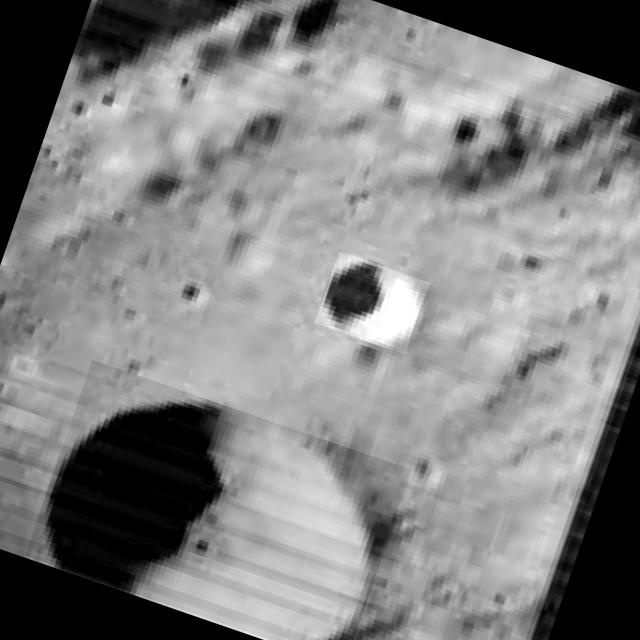crater: (26, 359, 413, 640), (314, 250, 430, 354)
